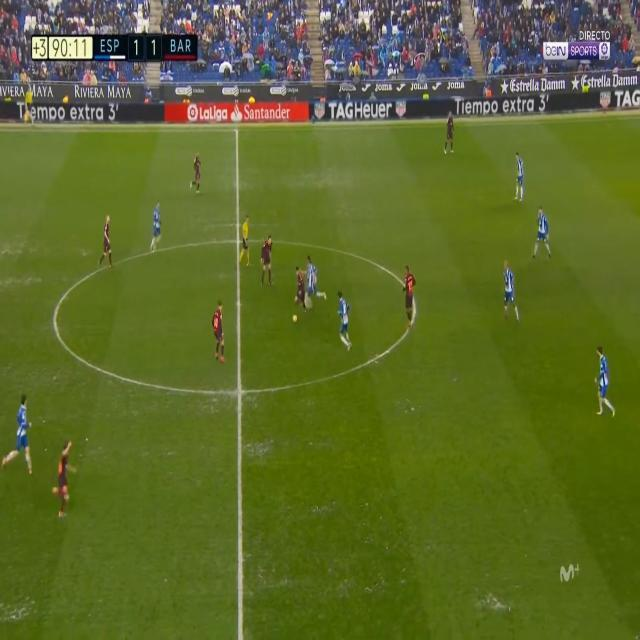ball: (22, 84, 37, 123), (292, 311, 300, 323)
player: (2, 391, 39, 483), (46, 430, 79, 519), (590, 344, 618, 426), (501, 259, 522, 324), (210, 299, 229, 366), (534, 203, 555, 263), (401, 265, 419, 332), (97, 210, 116, 273), (259, 234, 277, 293), (336, 289, 353, 351), (150, 200, 167, 257), (305, 254, 321, 311), (293, 264, 308, 319), (514, 151, 528, 204), (192, 150, 206, 195), (445, 110, 456, 155)
referee: (240, 213, 255, 273)
